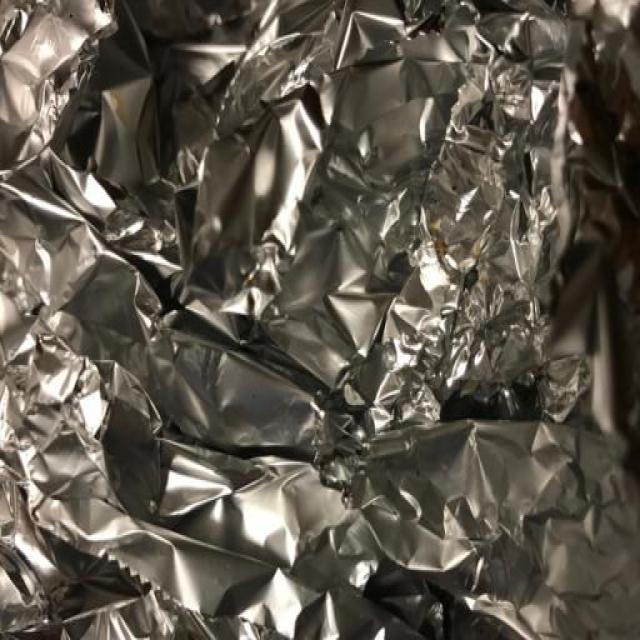others: (2, 1, 636, 638)
